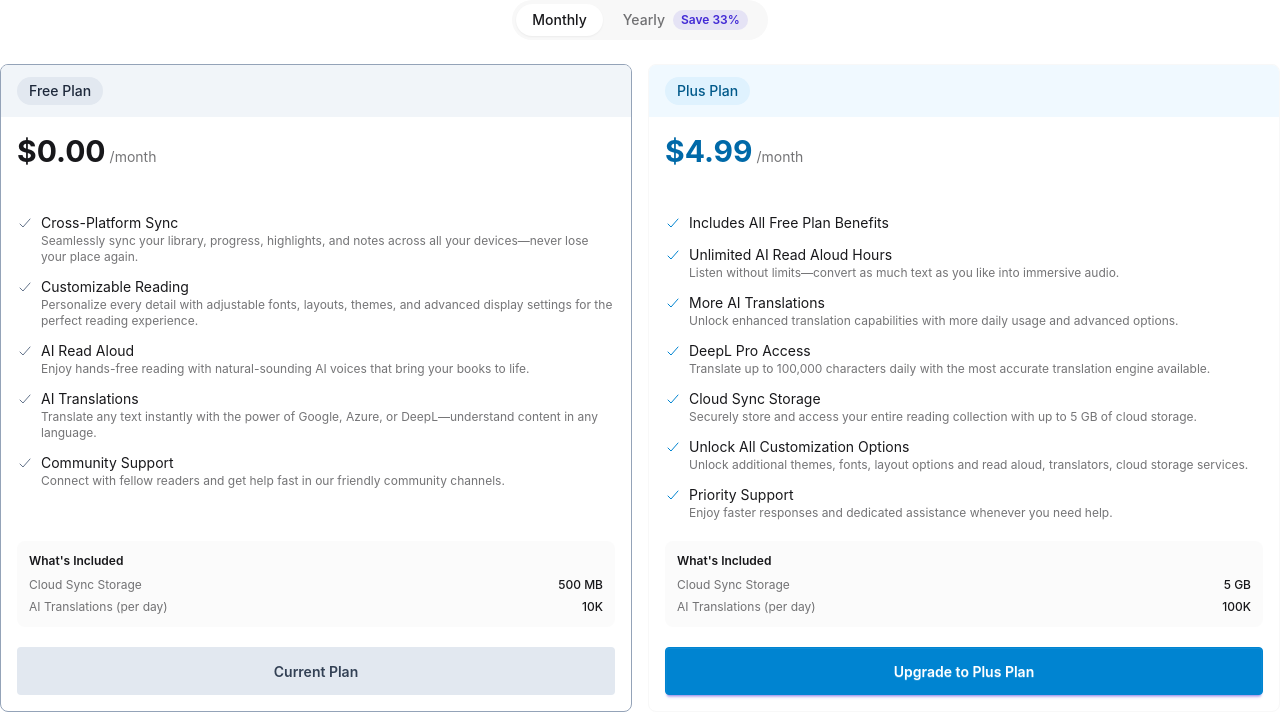
Scenario: PlansComparison › shows the per-month equivalent and the amount actually charged on yearly
This screenshot has width=1280, height=720.
Click the text "Yearly": (644, 20) [623, 10, 665, 30]
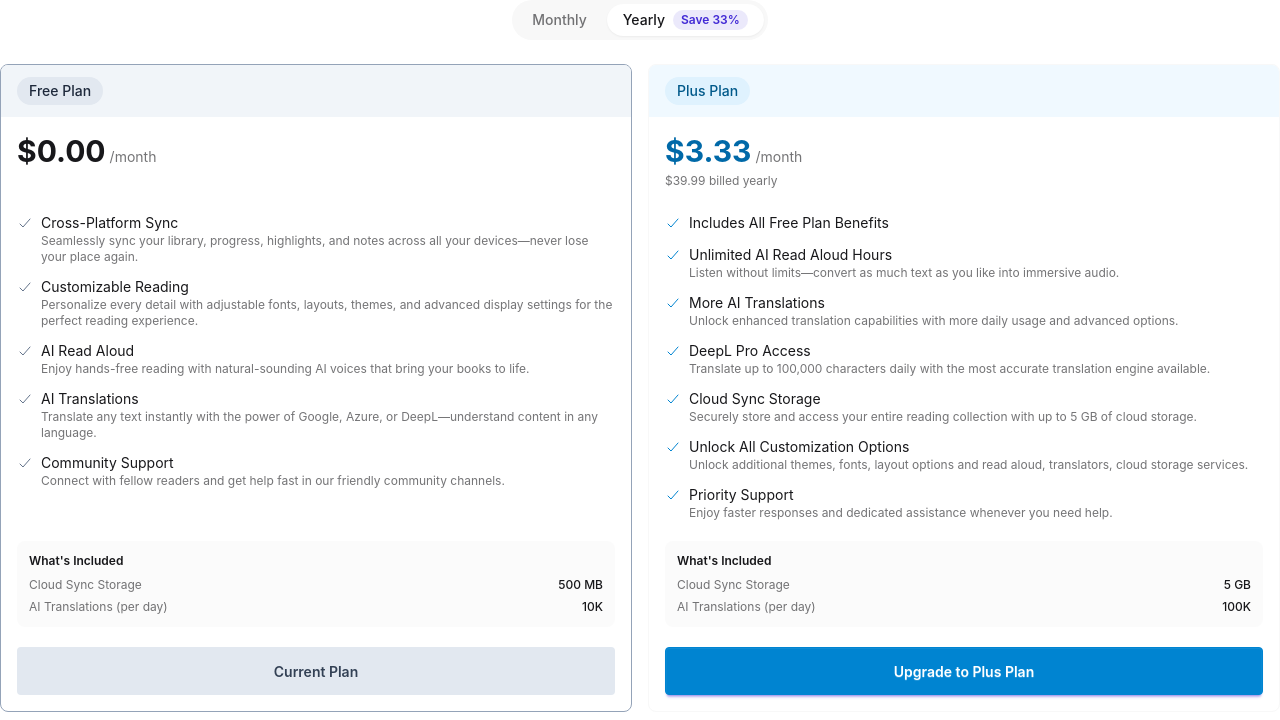
Now the text "Plus Plan" shows "3.33", box [665, 133, 752, 169]
Now the text "Plus Plan" shows "39.99 billed yearly", box [665, 173, 778, 188]
